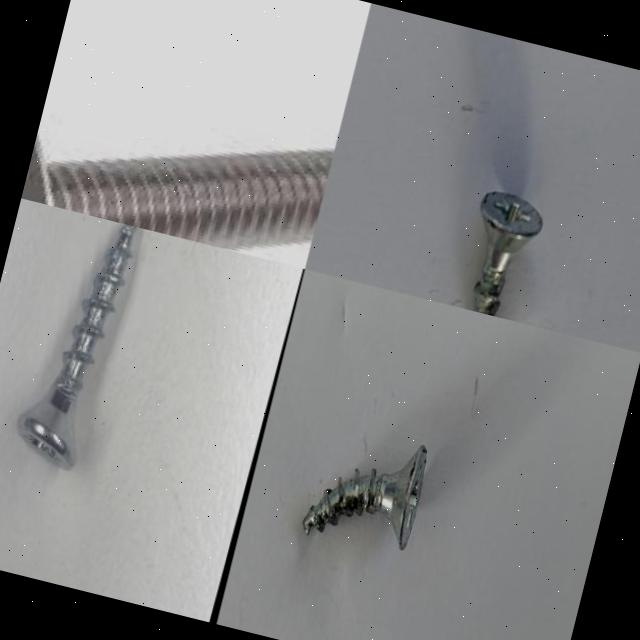Screw: (21, 147, 335, 251), (17, 224, 136, 469), (303, 444, 427, 549), (472, 191, 542, 316)
